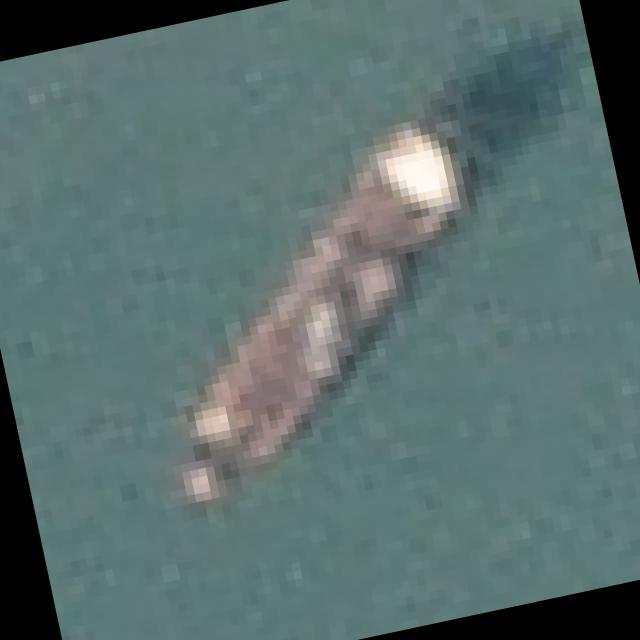ship: (59, 67, 586, 556)
